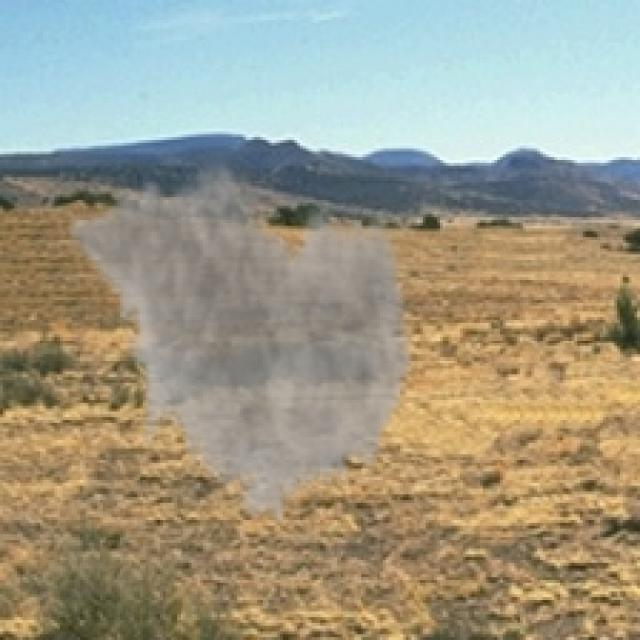smoke: (63, 152, 417, 534)
